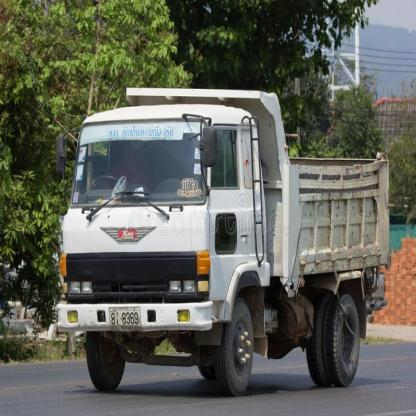dump_truck: (46, 71, 392, 399)
